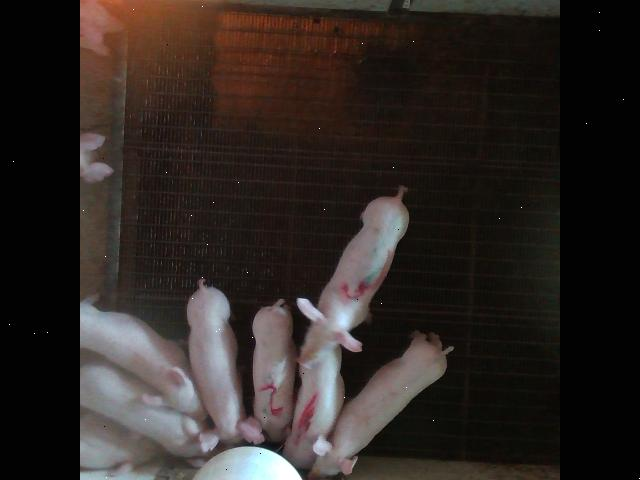pig-1: (283, 344, 345, 469)
pig-3: (297, 185, 409, 365)
pig-5: (252, 298, 298, 441)
